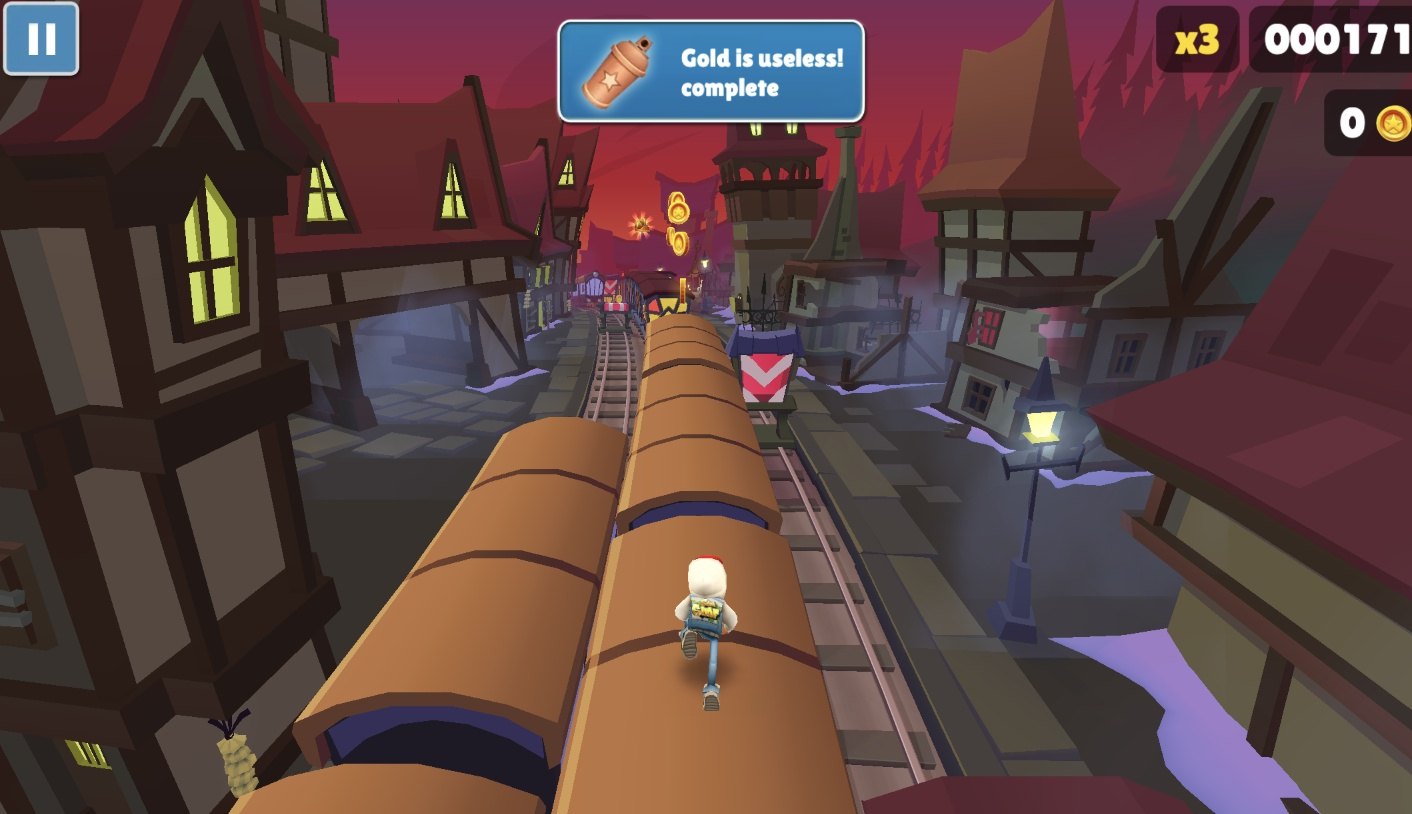ground_barrier: (599, 303, 634, 337)
overhead_barrier: (730, 327, 810, 440)
train: (221, 424, 624, 814), (548, 312, 859, 814), (860, 774, 1193, 814), (618, 272, 688, 328), (576, 272, 610, 309)
